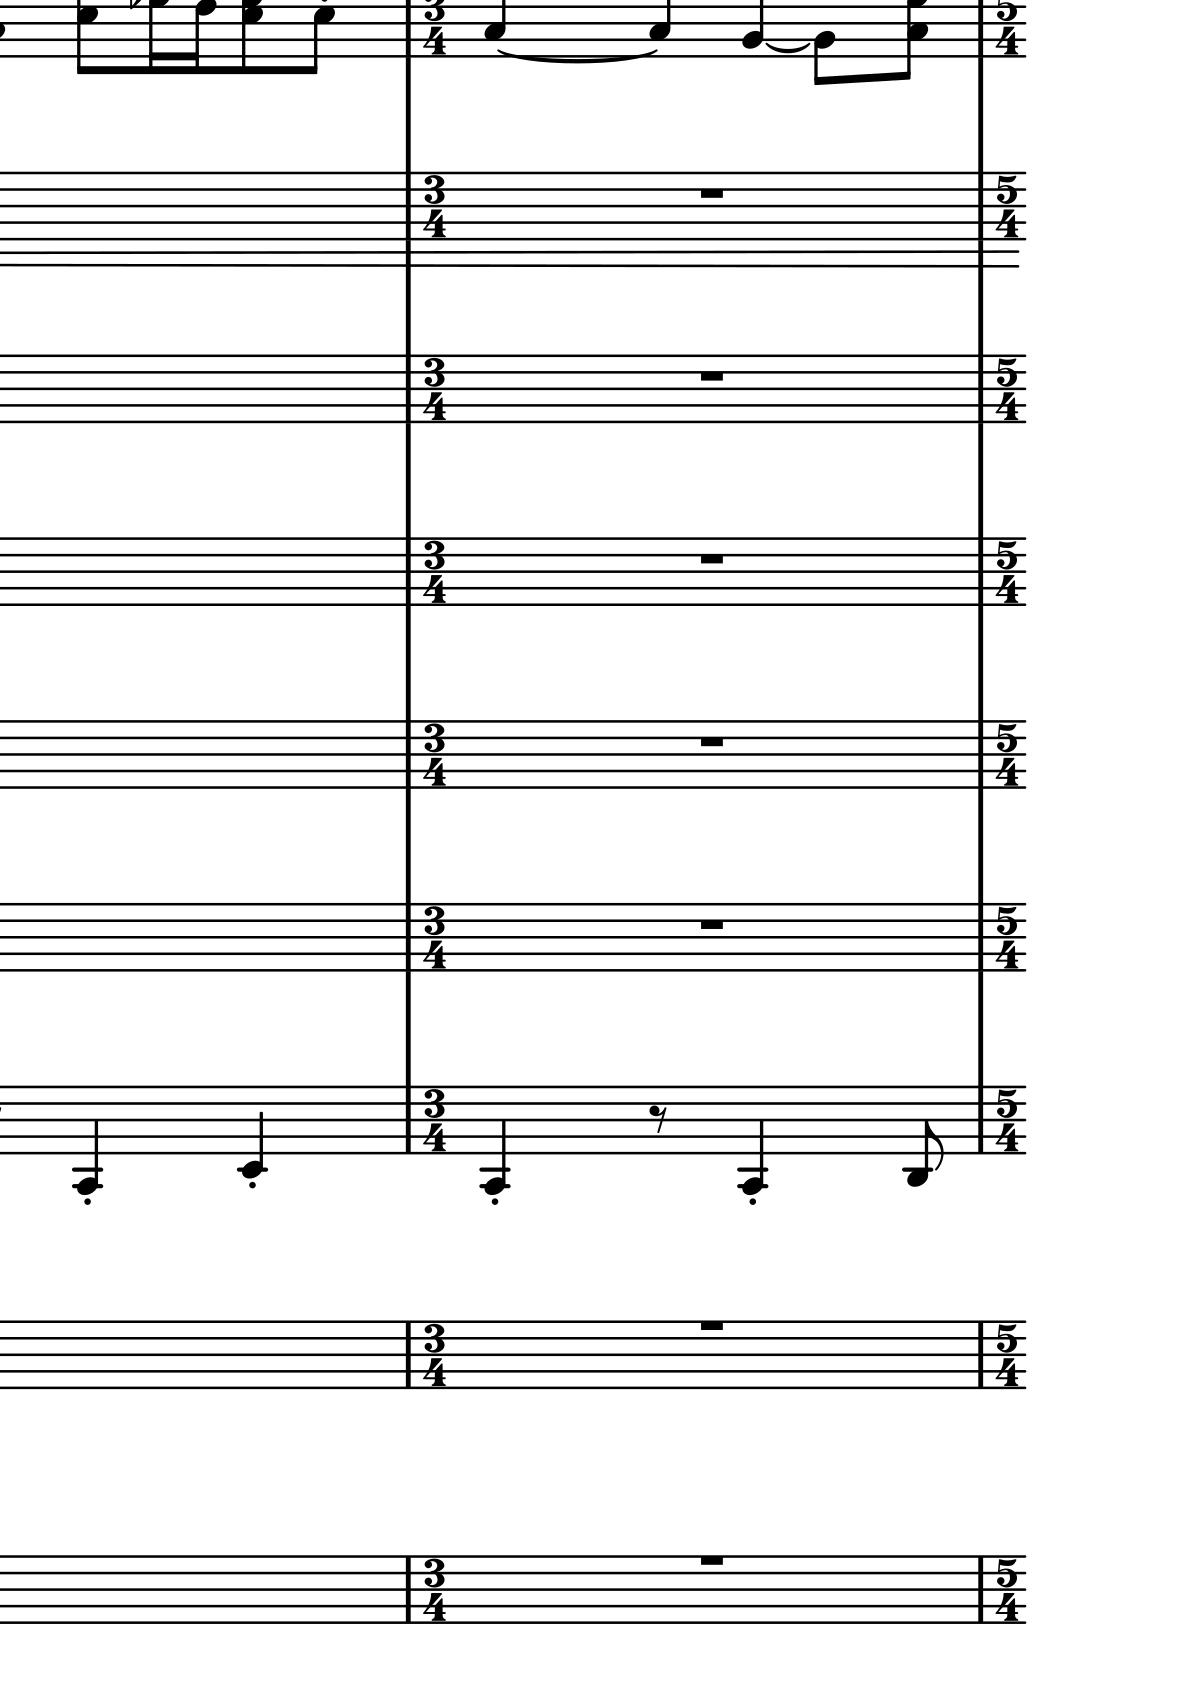3: (420, 169, 447, 208), (422, 353, 447, 390), (420, 537, 447, 571), (420, 1085, 447, 1120), (420, 1554, 447, 1589), (422, 719, 447, 755), (422, 902, 447, 939), (422, 1320, 447, 1354)
4: (995, 387, 1026, 424), (995, 752, 1027, 787), (995, 569, 1026, 605), (995, 1589, 1027, 1622), (422, 203, 447, 244), (995, 936, 1026, 970), (995, 1118, 1026, 1152), (995, 1354, 1026, 1387), (420, 752, 449, 789), (996, 206, 1026, 239), (420, 1589, 450, 1622), (420, 1118, 449, 1153), (420, 1354, 449, 1388), (422, 388, 450, 421), (997, 22, 1024, 57), (422, 570, 449, 605), (422, 22, 449, 56), (422, 937, 449, 970)
4_-2: (237, 1083, 266, 1179)
4_-4: (72, 1085, 102, 1195), (480, 1085, 510, 1195), (738, 1085, 767, 1195)
5: (993, 1085, 1024, 1120), (993, 1554, 1023, 1590), (993, 537, 1023, 571), (995, 719, 1023, 754), (995, 171, 1022, 206), (995, 353, 1022, 388), (995, 901, 1022, 936), (995, 1319, 1022, 1354)
8_-3: (904, 1083, 945, 1188)
Rests1: (696, 184, 727, 204), (694, 366, 727, 385), (696, 1316, 728, 1335), (694, 1551, 728, 1569), (696, 549, 727, 568), (696, 733, 727, 751), (696, 917, 727, 933)
Rests8: (647, 1103, 670, 1136)
Single_barline: (396, 720, 420, 789), (397, 171, 420, 242), (396, 356, 420, 423), (396, 538, 420, 605), (397, 902, 419, 971), (971, 169, 991, 246), (397, 1086, 419, 1153), (397, 1321, 419, 1388), (970, 720, 991, 789), (970, 1086, 991, 1154), (970, 538, 991, 605), (971, 354, 991, 424), (971, 902, 991, 972), (400, 1554, 419, 1624), (971, 1319, 991, 1388), (973, 1557, 991, 1625)
Slur: (497, 48, 658, 66), (766, 39, 813, 54)
TimeSig: (420, 719, 450, 789), (420, 354, 450, 423), (422, 537, 450, 606), (995, 538, 1023, 608), (995, 720, 1023, 790), (995, 902, 1023, 972), (995, 1085, 1023, 1154), (995, 354, 1023, 423), (422, 902, 450, 971), (420, 1555, 449, 1624), (995, 1555, 1023, 1624), (422, 1085, 449, 1154), (422, 1320, 449, 1390), (995, 1321, 1022, 1390), (422, 171, 447, 240), (995, 172, 1020, 240)
